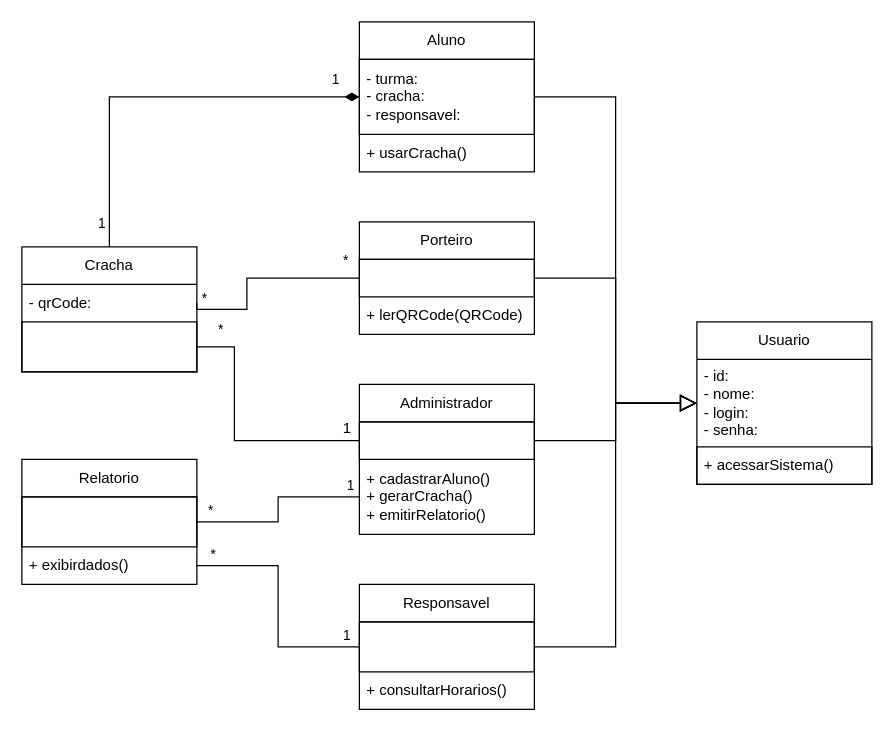
The diagram is 894 pixels wide and 731 high, and some of its shapes have lost their labels. The shapes that lost their labels are listed below. From the top down, each one's centre as x and y in pixels, then its label:
(x=109, y=346): + gerarQRCode() + getQRCode()
(x=446, y=440): - cargo:
(x=109, y=521): = data: - dadosPresenca:
(x=446, y=646): - telefone: - alunoAssociado:
